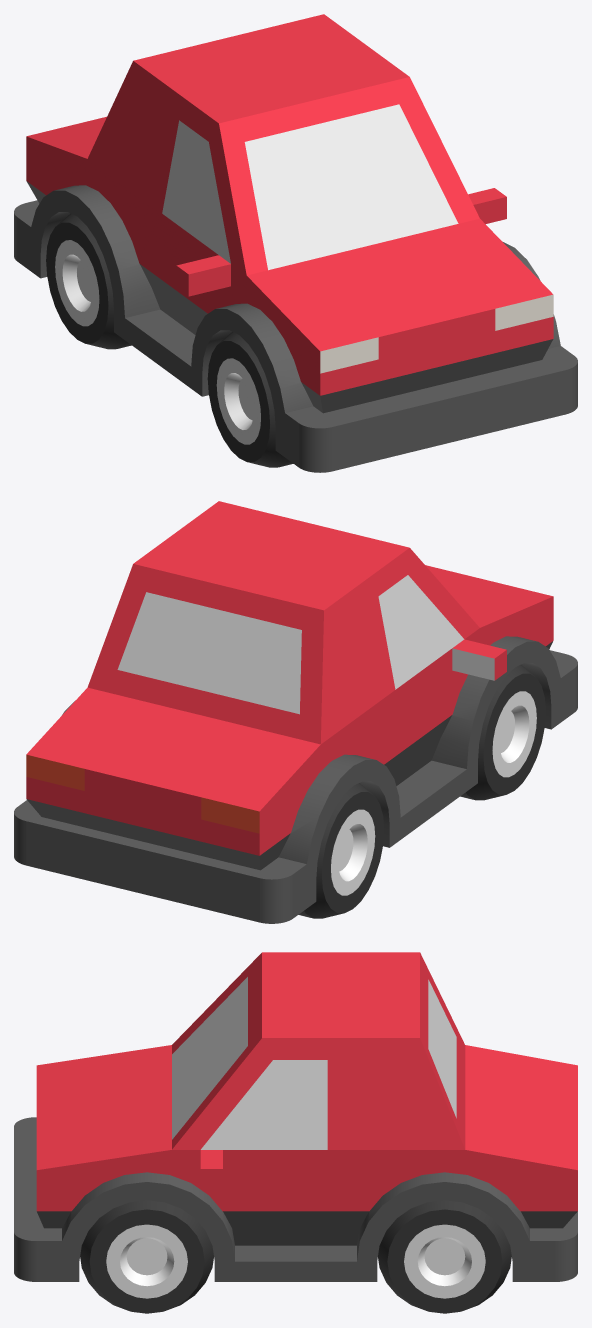
File: sedan.fbx
3 views of the same model, one above another, from view 1: azimuth 30°, elevation 25°; view 2: azimuth 150°, elevation 25°; view 3: azimuth 270°, elevation 25° (orthographic). The views are drawn at different scales.
Visible parts, largest first — view 1: body, wheel_backRight, wheel_frontRight; view 2: body, wheel_backRight, wheel_frontRight; view 3: body, wheel_backLeft, wheel_frontLeft.
Part boxes in pixels (bbox=[...]): body: bbox=[14, 14, 577, 472]; wheel_backRight: bbox=[46, 213, 131, 349]; wheel_frontRight: bbox=[207, 332, 293, 467]; body: bbox=[14, 501, 577, 923]; wheel_backRight: bbox=[298, 783, 384, 918]; wheel_frontRight: bbox=[460, 664, 545, 800]; body: bbox=[14, 952, 577, 1281]; wheel_backLeft: bbox=[378, 1200, 511, 1313]; wheel_frontLeft: bbox=[80, 1200, 213, 1313].
Bounding box in the file's own units: 15 × 13 × 25.
